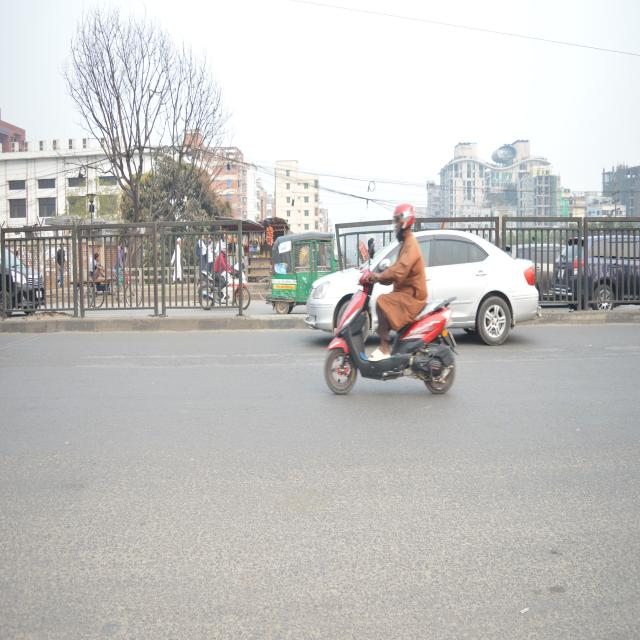car: (307, 220, 541, 336), (554, 221, 640, 311), (1, 241, 48, 316)
motorbike: (328, 273, 462, 403), (200, 257, 255, 304)
